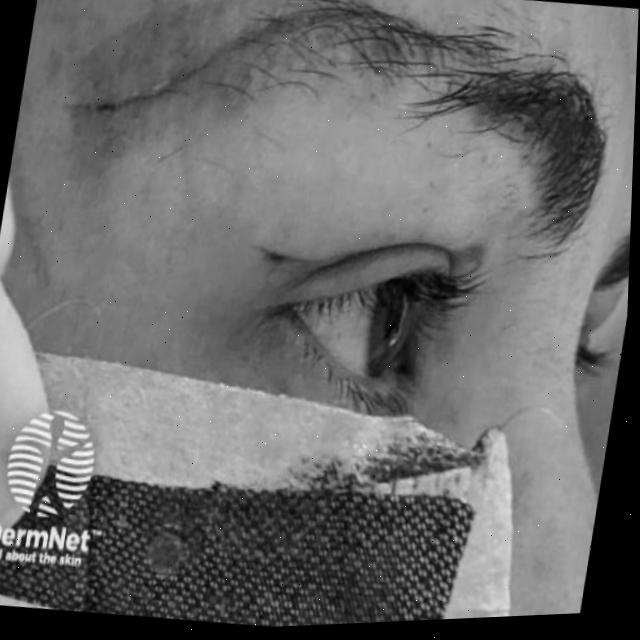Eczema: (40, 0, 408, 180)
